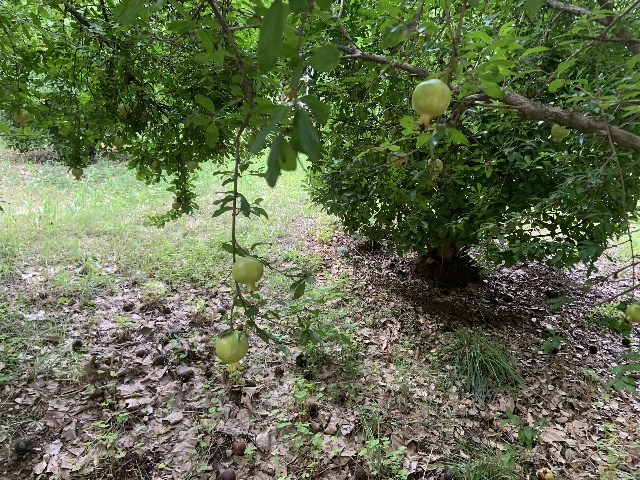mid-growth: (411, 78, 451, 131), (213, 330, 247, 372), (232, 256, 263, 293), (619, 303, 640, 328), (425, 158, 443, 181), (549, 123, 570, 142), (12, 108, 30, 126), (391, 151, 408, 168), (284, 84, 297, 101), (71, 167, 83, 181), (112, 136, 124, 150), (117, 103, 129, 115), (149, 160, 160, 173), (386, 151, 395, 166), (186, 160, 197, 172), (80, 156, 89, 168), (171, 201, 180, 211), (96, 69, 105, 78)
